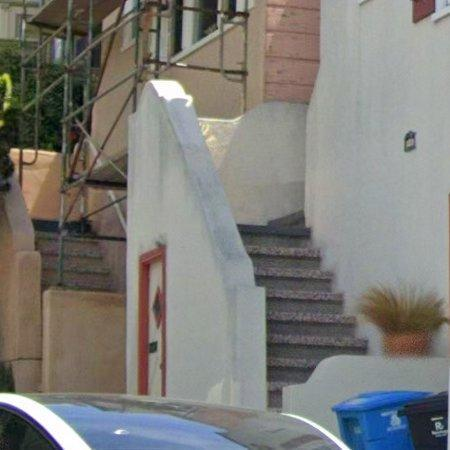stairs: (239, 226, 368, 409)
